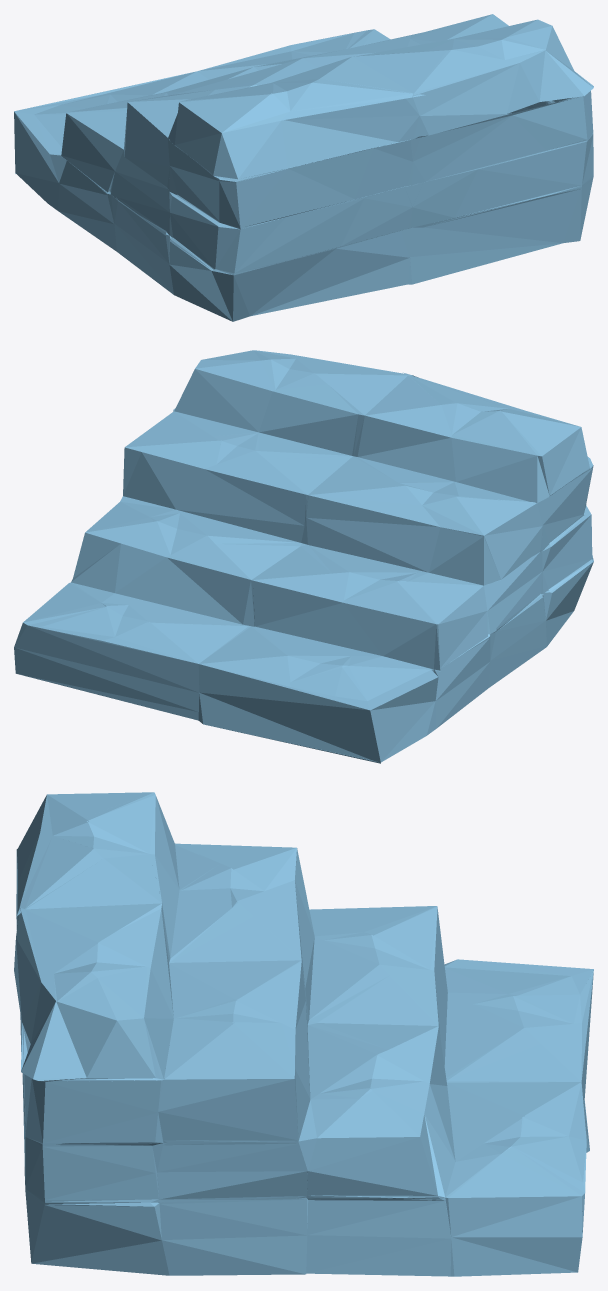
Rendered from brick stairs style 4.fbx.
3 views of the same model, one above another, from view 1: azimuth 30°, elevation 25°; view 2: azimuth 150°, elevation 25°; view 3: azimuth 270°, elevation 25° (orthographic). The views are drawn at different scales.
Visible parts, largest first — view 1: Cube.108; view 2: Cube.108; view 3: Cube.108.
Part boxes in pixels (x1,y1,x2,y2): Cube.108: [14, 14, 593, 321]; Cube.108: [14, 350, 593, 763]; Cube.108: [14, 792, 593, 1276].
Bounding box in the file's own units: 300 × 150 × 300.
